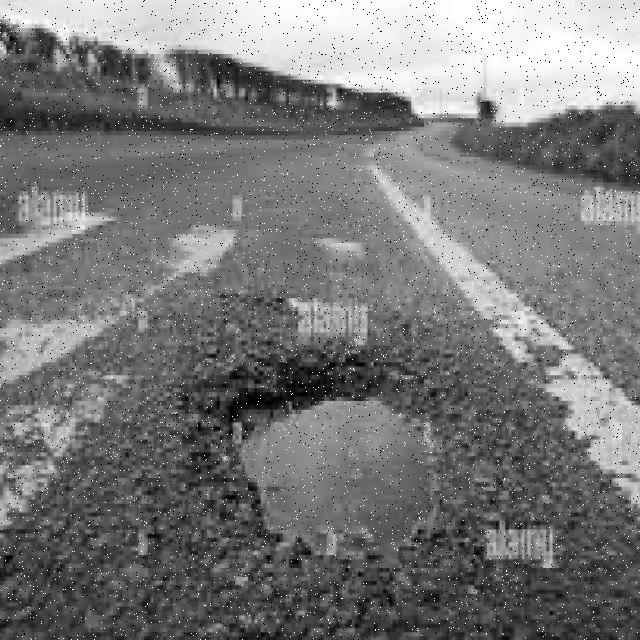pothole: (236, 397, 433, 564)
